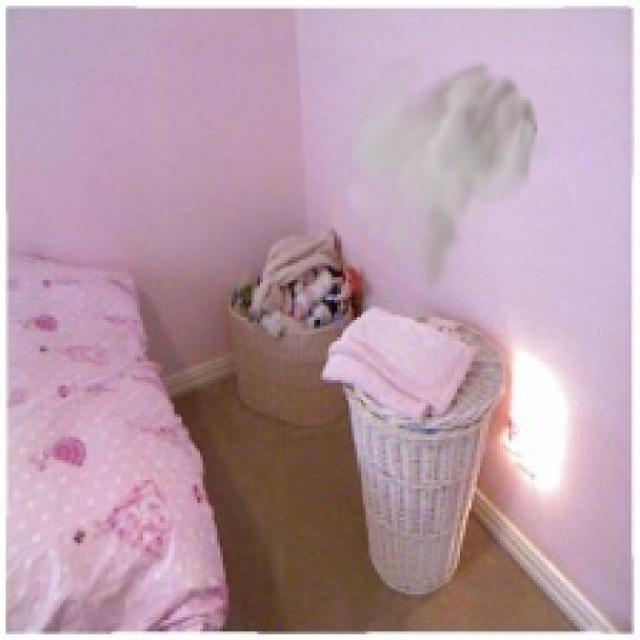Smoke: (337, 40, 557, 297)
